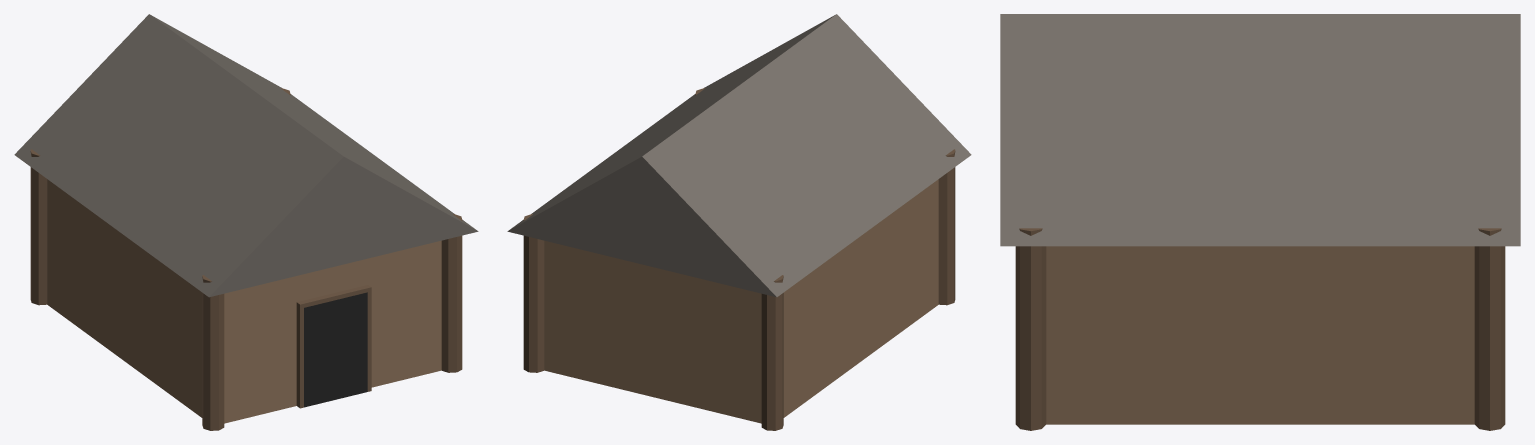
File: cabin.glb
The picture shows the model from 3 angles, left to right: view 1: azimuth 30°, elevation 25°; view 2: azimuth 150°, elevation 25°; view 3: azimuth 270°, elevation 25°; orthographic projection. The views are drawn at different scales.
Visible parts, largest first — view 1: RusticCabin; view 2: RusticCabin; view 3: RusticCabin.
Boxes of the visible parts, box(x1,y1,x2,y2) form: RusticCabin: box(14, 14, 478, 430); RusticCabin: box(507, 14, 971, 430); RusticCabin: box(1000, 14, 1520, 430).
Size of the model in its own units: 6.8 by 6 by 8.5.
